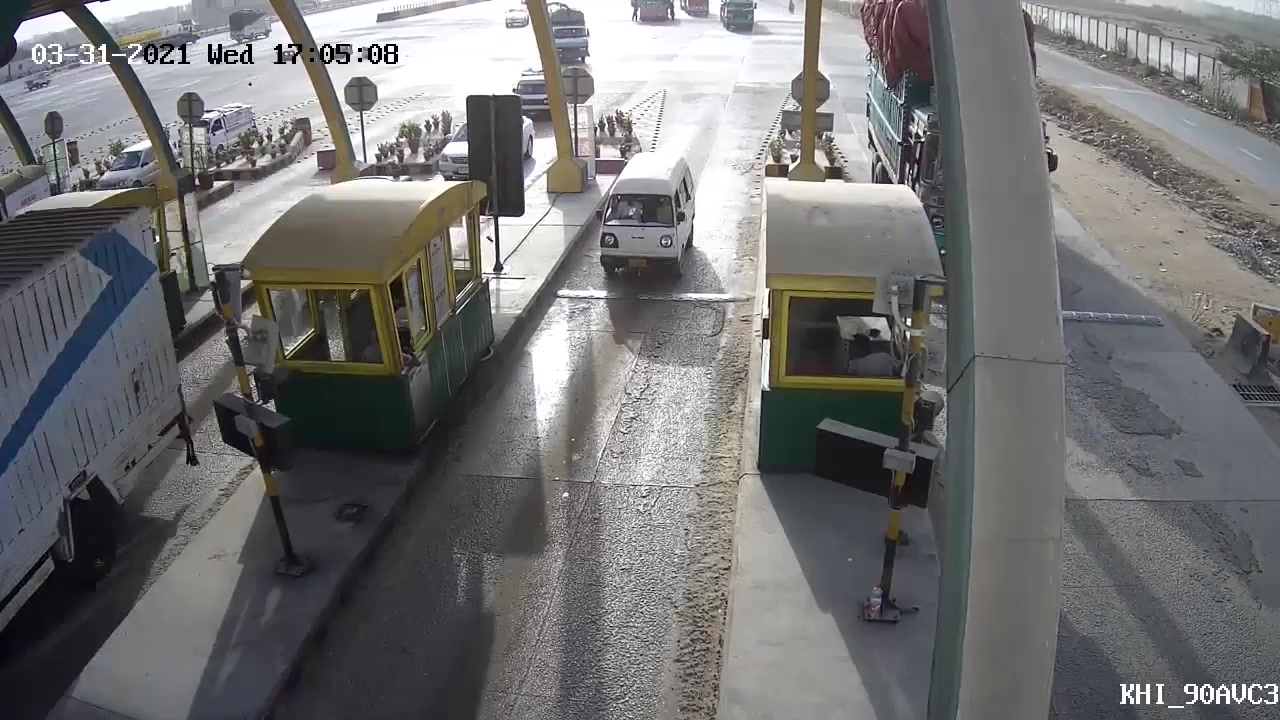F1: (576, 151, 703, 283)
